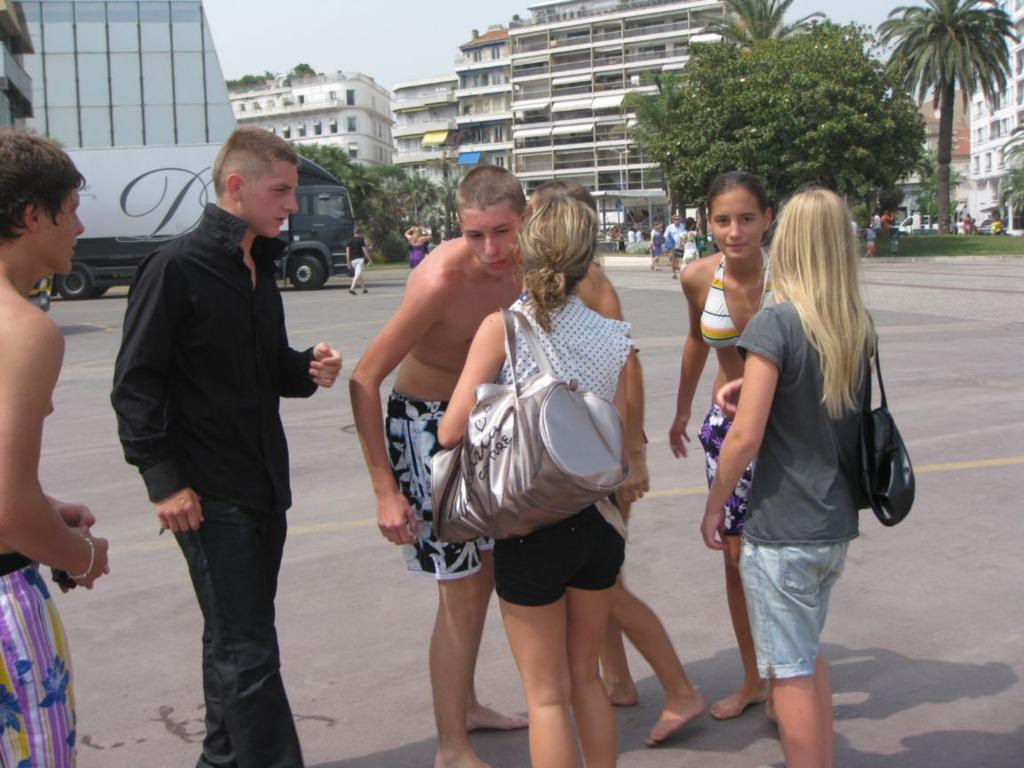face: (30, 187, 83, 271), (465, 214, 524, 277), (240, 173, 298, 235), (711, 200, 764, 257), (674, 217, 679, 224), (657, 223, 662, 229)
